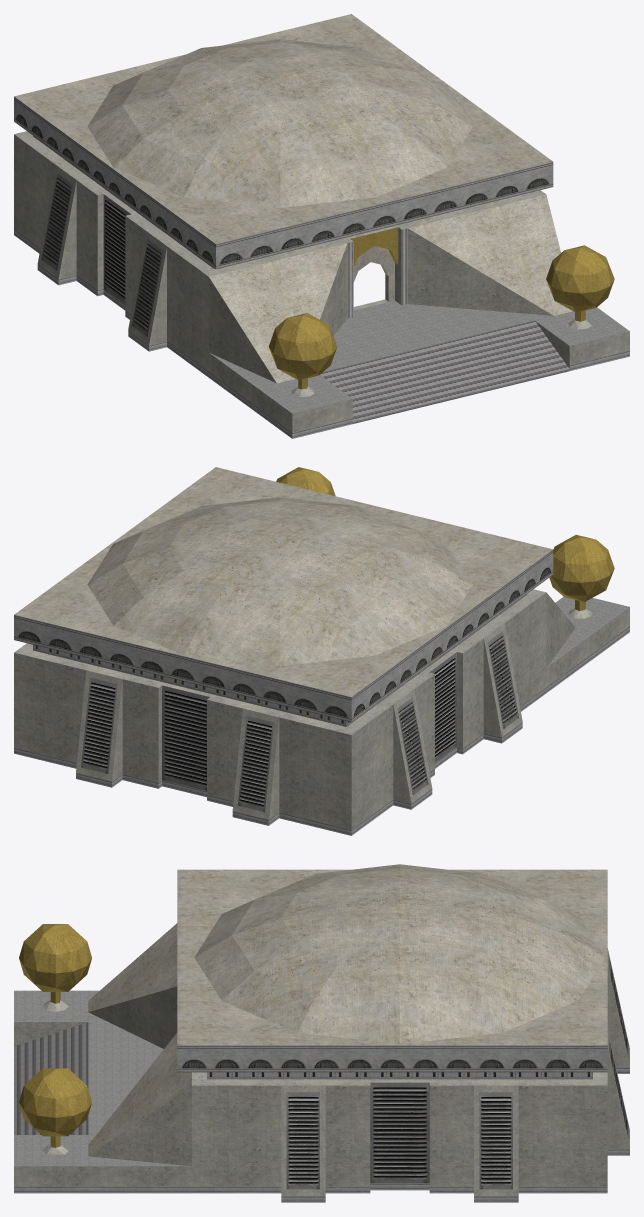
File: mun_all_guild_commerce_s01_r0_exterior_mesh_all_guildcommerce_l1.fbx
The picture shows the model from 3 angles, top to bottom: view 1: azimuth 30°, elevation 25°; view 2: azimuth 150°, elevation 25°; view 3: azimuth 270°, elevation 25°; orthographic projection. The views are drawn at different scales.
Visible parts, largest first — view 1: mesh_node; view 2: mesh_node; view 3: mesh_node.
Boxes of the visible parts, x1,y1,x2,y2 form: mesh_node: (14, 14, 629, 438); mesh_node: (14, 467, 629, 835); mesh_node: (14, 864, 629, 1202).
Bounding box in the file's own units: 38.75 × 18.75 × 51.88.
